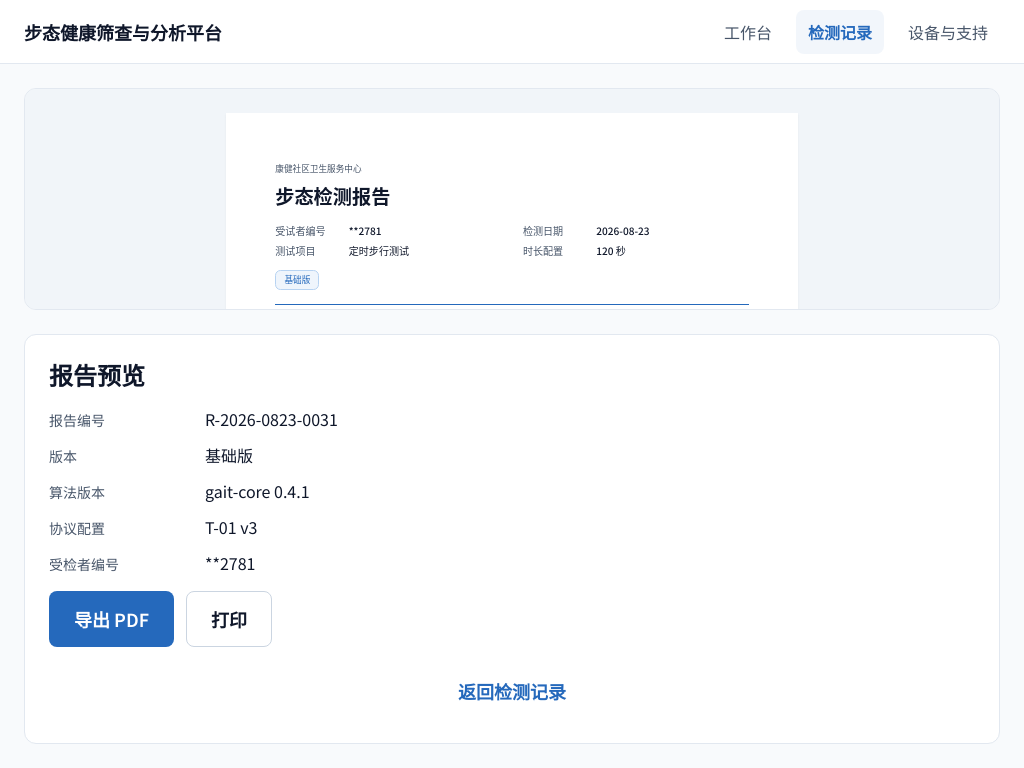
Test: with the shell bridge › passes the report id only — never the subject label
Click the button "导出 PDF": (112, 619) x1=49 y1=591 x2=174 y2=647
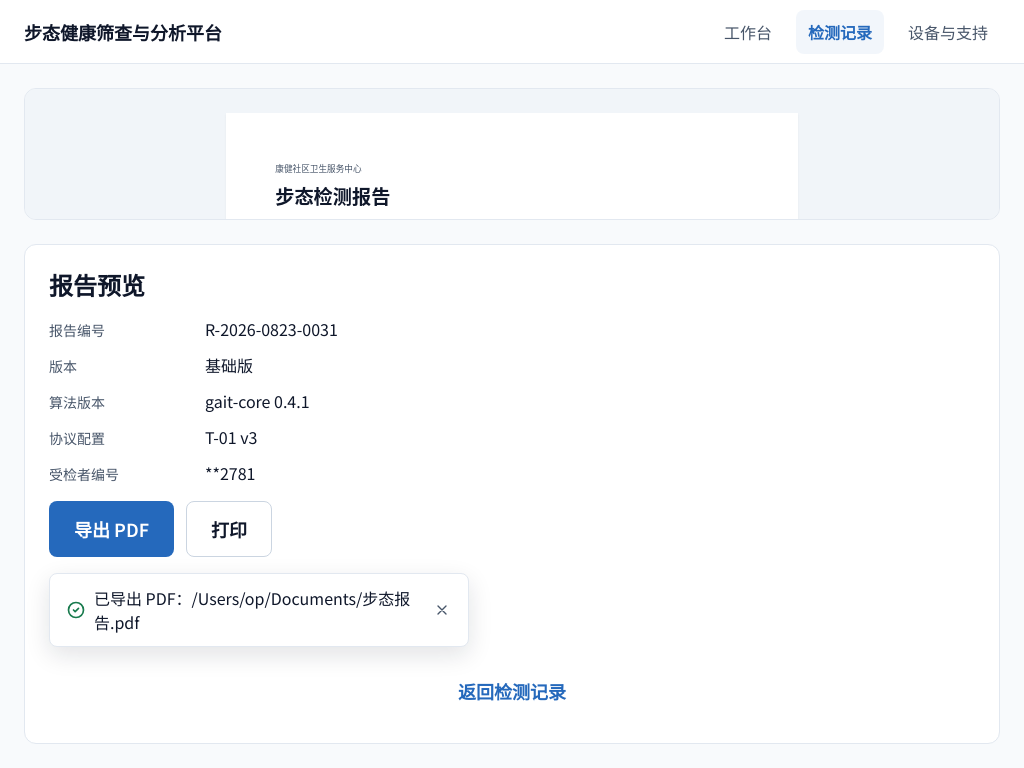
Check: the text "已导出 PDF：/Users/op/Documents/步态报告.pdf" is shown, box x1=94 y1=586 x2=424 y2=634
